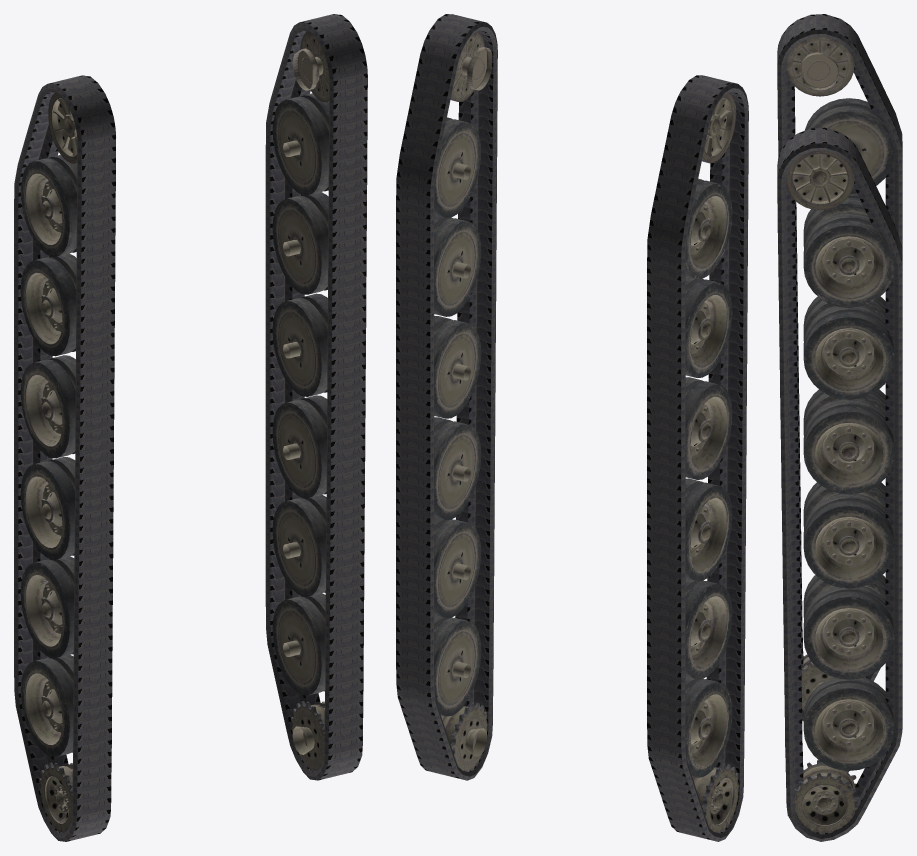
The model's file is Chassis.glb.
3 renders of one model, left to right at view 1: azimuth 30°, elevation 25°; view 2: azimuth 150°, elevation 25°; view 3: azimuth 270°, elevation 25°, orthographic. The views are drawn at different scales.
Visible parts, largest first — view 1: set_1_group_0, set_0_group_0, set_3_group_0, set_2_group_0; view 2: set_1_group_0, set_0_group_0, set_3_group_0, set_2_group_0; view 3: set_3_group_0, set_0_group_0, set_2_group_0, set_1_group_0.
Boxes of the visible parts, box(x1,y1,x2,y2) form: set_1_group_0: box(14, 75, 115, 841); set_0_group_0: box(265, 14, 367, 780); set_3_group_0: box(272, 31, 329, 771); set_2_group_0: box(20, 93, 77, 832); set_1_group_0: box(647, 75, 748, 841); set_0_group_0: box(396, 14, 497, 780); set_3_group_0: box(434, 31, 492, 771); set_2_group_0: box(685, 92, 738, 832); set_3_group_0: box(785, 150, 894, 833); set_0_group_0: box(777, 127, 902, 841); set_2_group_0: box(785, 36, 894, 711); set_1_group_0: box(777, 14, 902, 721).
Bounding box in the file's own units: 2.73 × 6.79 × 1.11.
Materials: 4 (4 with a texture image).
